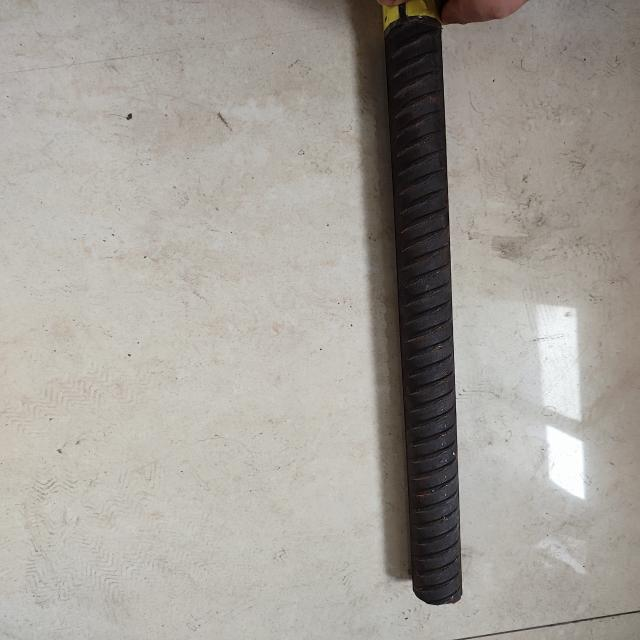ribbed bar: (376, 4, 470, 605)
